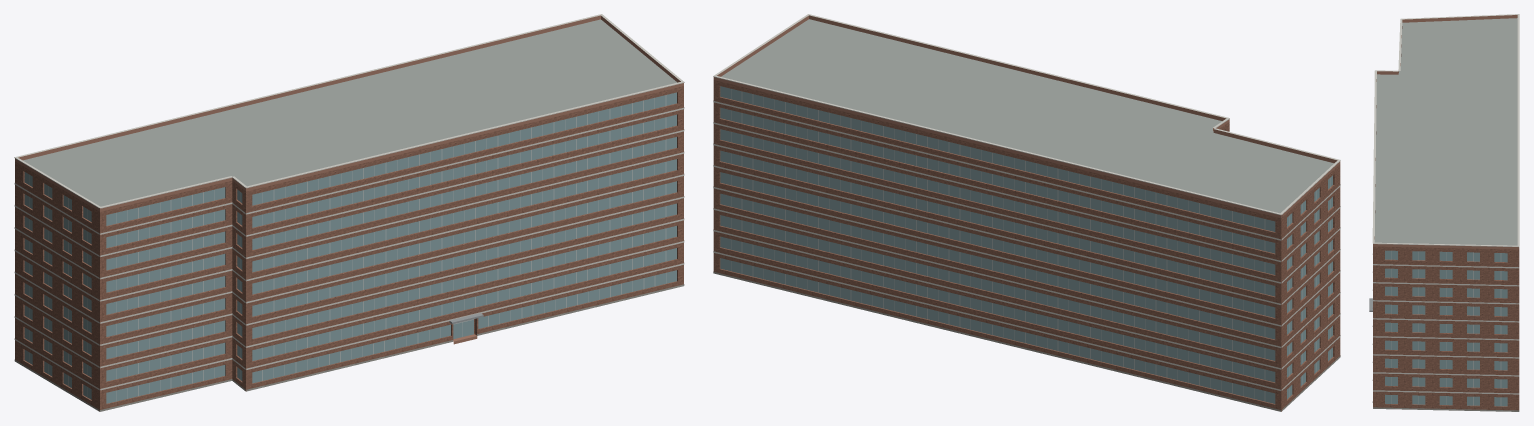
3 renders of one model, left to right at view 1: azimuth 30°, elevation 25°; view 2: azimuth 150°, elevation 25°; view 3: azimuth 270°, elevation 25°, orthographic. The views are drawn at different scales.
Visible parts, largest first — view 1: e1__wall, e1__glass, e1__roof, e1__trim, e1__frame, e1__parapet, e1__base; view 2: e1__wall, e1__glass, e1__roof, e1__trim, e1__frame, e1__parapet, e1__base; view 3: e1__roof, e1__wall, e1__glass, e1__trim, e1__parapet, e1__frame, e1__base.
Boxes of the visible parts, bbox=[...] form: e1__wall: bbox=[15, 86, 683, 411]; e1__glass: bbox=[24, 92, 676, 403]; e1__roof: bbox=[23, 19, 676, 206]; e1__trim: bbox=[14, 14, 684, 390]; e1__frame: bbox=[29, 95, 666, 401]; e1__parapet: bbox=[15, 15, 683, 211]; e1__base: bbox=[14, 284, 684, 411]; e1__wall: bbox=[713, 80, 1340, 411]; e1__glass: bbox=[720, 86, 1332, 403]; e1__roof: bbox=[721, 19, 1333, 213]; e1__trim: bbox=[713, 14, 1340, 390]; e1__frame: bbox=[731, 89, 1330, 401]; e1__parapet: bbox=[713, 15, 1340, 218]; e1__base: bbox=[713, 271, 1340, 411]; e1__roof: bbox=[1374, 18, 1517, 245]; e1__wall: bbox=[1373, 246, 1519, 410]; e1__glass: bbox=[1385, 250, 1507, 406]; e1__trim: bbox=[1372, 14, 1519, 394]; e1__parapet: bbox=[1373, 15, 1519, 249]; e1__frame: bbox=[1391, 251, 1501, 405]; e1__base: bbox=[1372, 401, 1519, 411].
Size of the model in its own units: 94.11 by 31.6 by 25.7.
10 materials, 2 textured.
